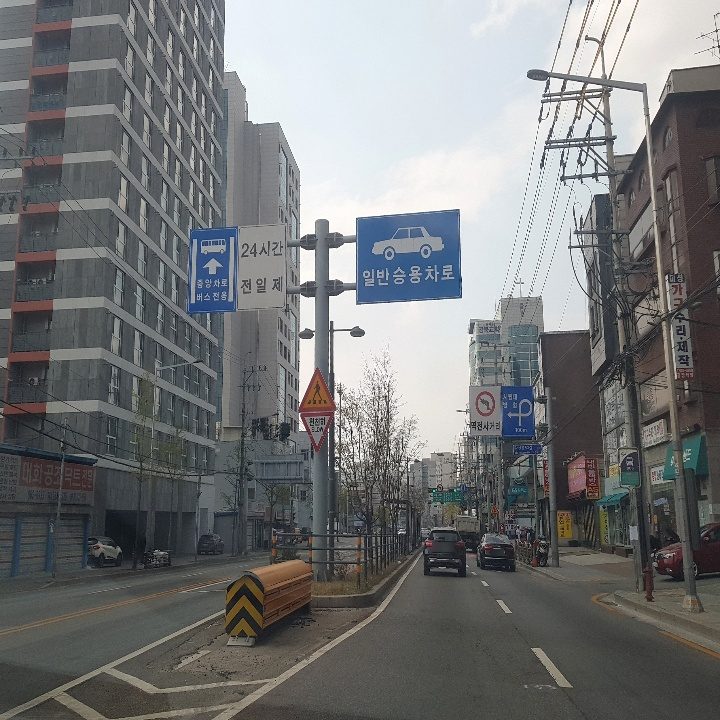bus: (197, 235, 232, 258)
cross: (304, 380, 328, 406)
